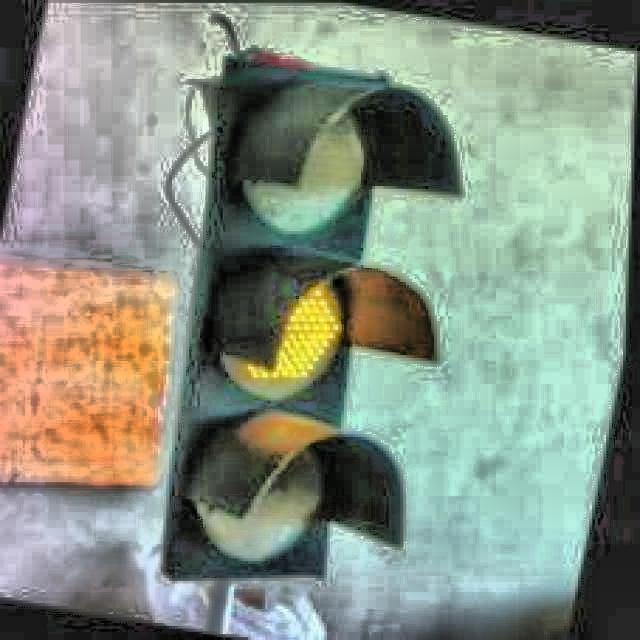yellow: (174, 59, 438, 586)
